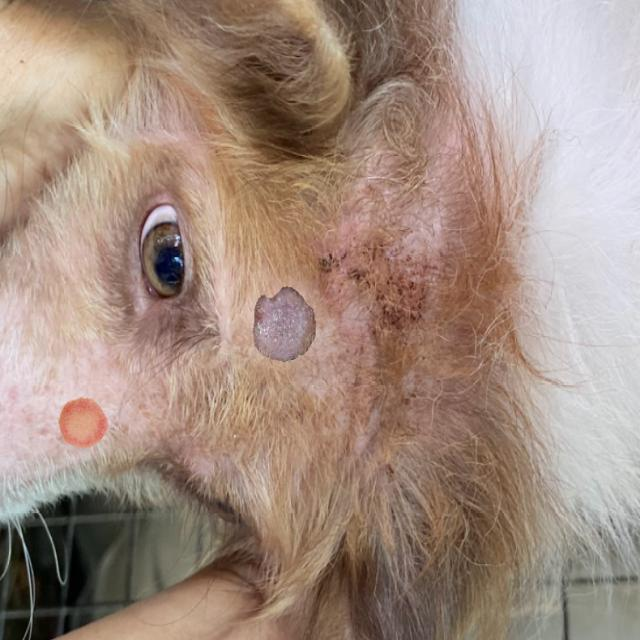ringworm: (236, 270, 320, 375), (44, 384, 118, 463)
